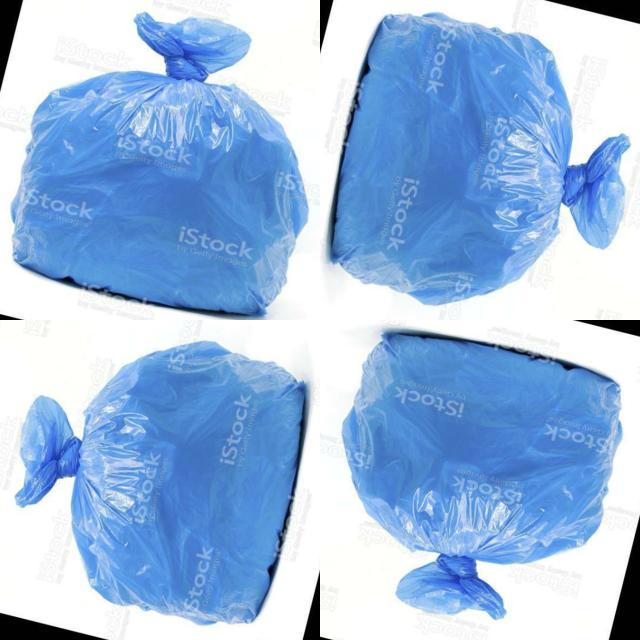Single-layer Plastic: (11, 12, 308, 315), (331, 12, 630, 305), (15, 341, 304, 624), (342, 334, 621, 619)
